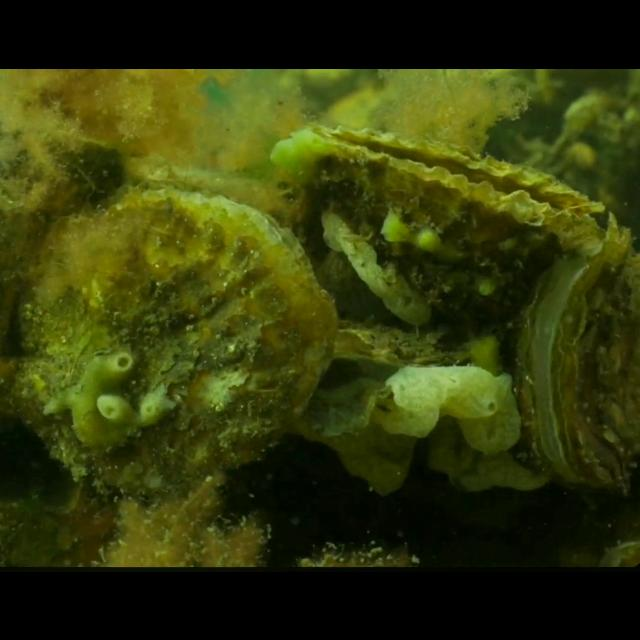Oyster-Closed: (9, 185, 341, 511)
Oyster-Open: (270, 120, 610, 326), (516, 212, 640, 486), (292, 316, 514, 438)
